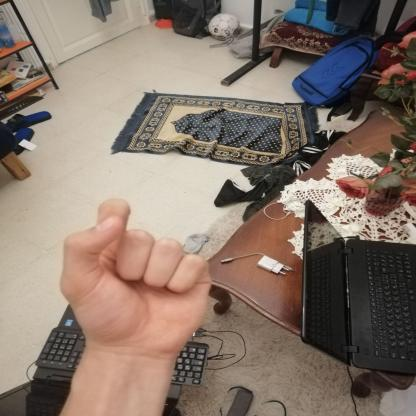FAA: (46, 186, 230, 368)
